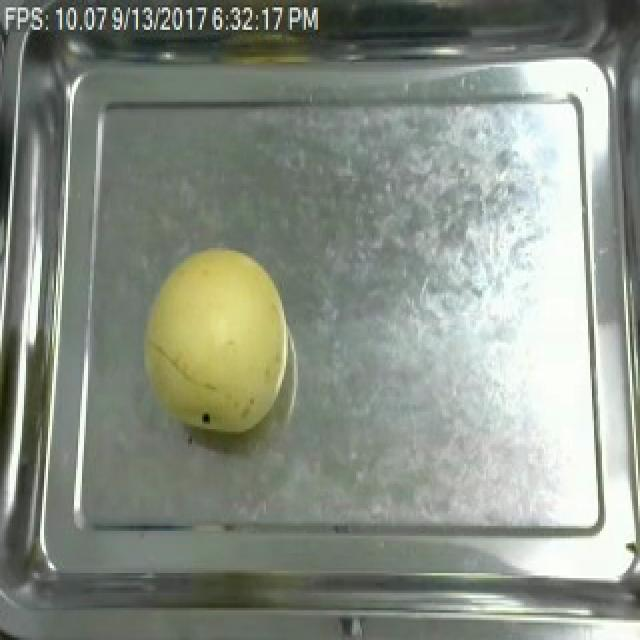Fruit: (136, 238, 298, 439)
